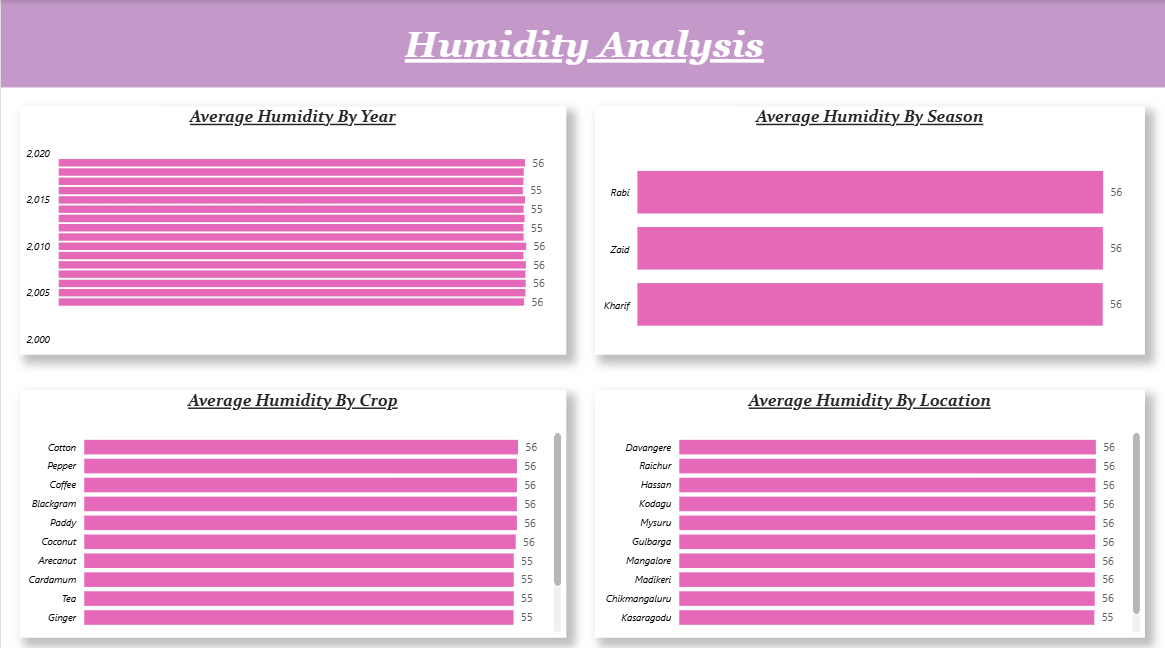

This screenshot's page, from the dashboard's own definition file:
{"tool":"powerbi","page":{"name":"Humidity Analysis","canvas":[1280,720],"ordinal":2},"visuals":[{"type":"shape","box":[0,0,1280.3,96.1],"z":0},{"type":"barChart","title":"Average Humidity  By Year","fields":{"Category":["AGRICULTURE.YEAR"],"Y":["Avg(AGRICULTURE.HUMIDITY)"]},"box":[20.6,116.6,599.7,273.1],"z":1000},{"type":"barChart","title":"Average Humidity  By Season","fields":{"Category":["AGRICULTURE.SEASON"],"Y":["Avg(AGRICULTURE.HUMIDITY)"]},"box":[651.8,116.6,603.8,273.1],"z":2000},{"type":"barChart","title":"Average Humidity  By Crop ","fields":{"Category":["AGRICULTURE.CROPS"],"Y":["Avg(AGRICULTURE.HUMIDITY)"]},"box":[20.6,428.1,599.7,271.7],"z":3000},{"type":"barChart","title":"Average Humidity  By Location ","fields":{"Category":["AGRICULTURE.LOCATION"],"Y":["Avg(AGRICULTURE.HUMIDITY)"]},"box":[651.8,428.1,603.8,271.7],"z":4000}]}

Visuals, with their boxes in screenshot pixels (x1, y1, x2, y2), scaled from the page's 1280x720 canvas onto the 1165x648 screenshot:
shape: detection(0, 0, 1164, 86)
"Average Humidity  By Year" barChart: detection(19, 105, 565, 351)
"Average Humidity  By Season" barChart: detection(593, 105, 1143, 351)
"Average Humidity  By Crop " barChart: detection(19, 385, 565, 630)
"Average Humidity  By Location " barChart: detection(593, 385, 1143, 630)
